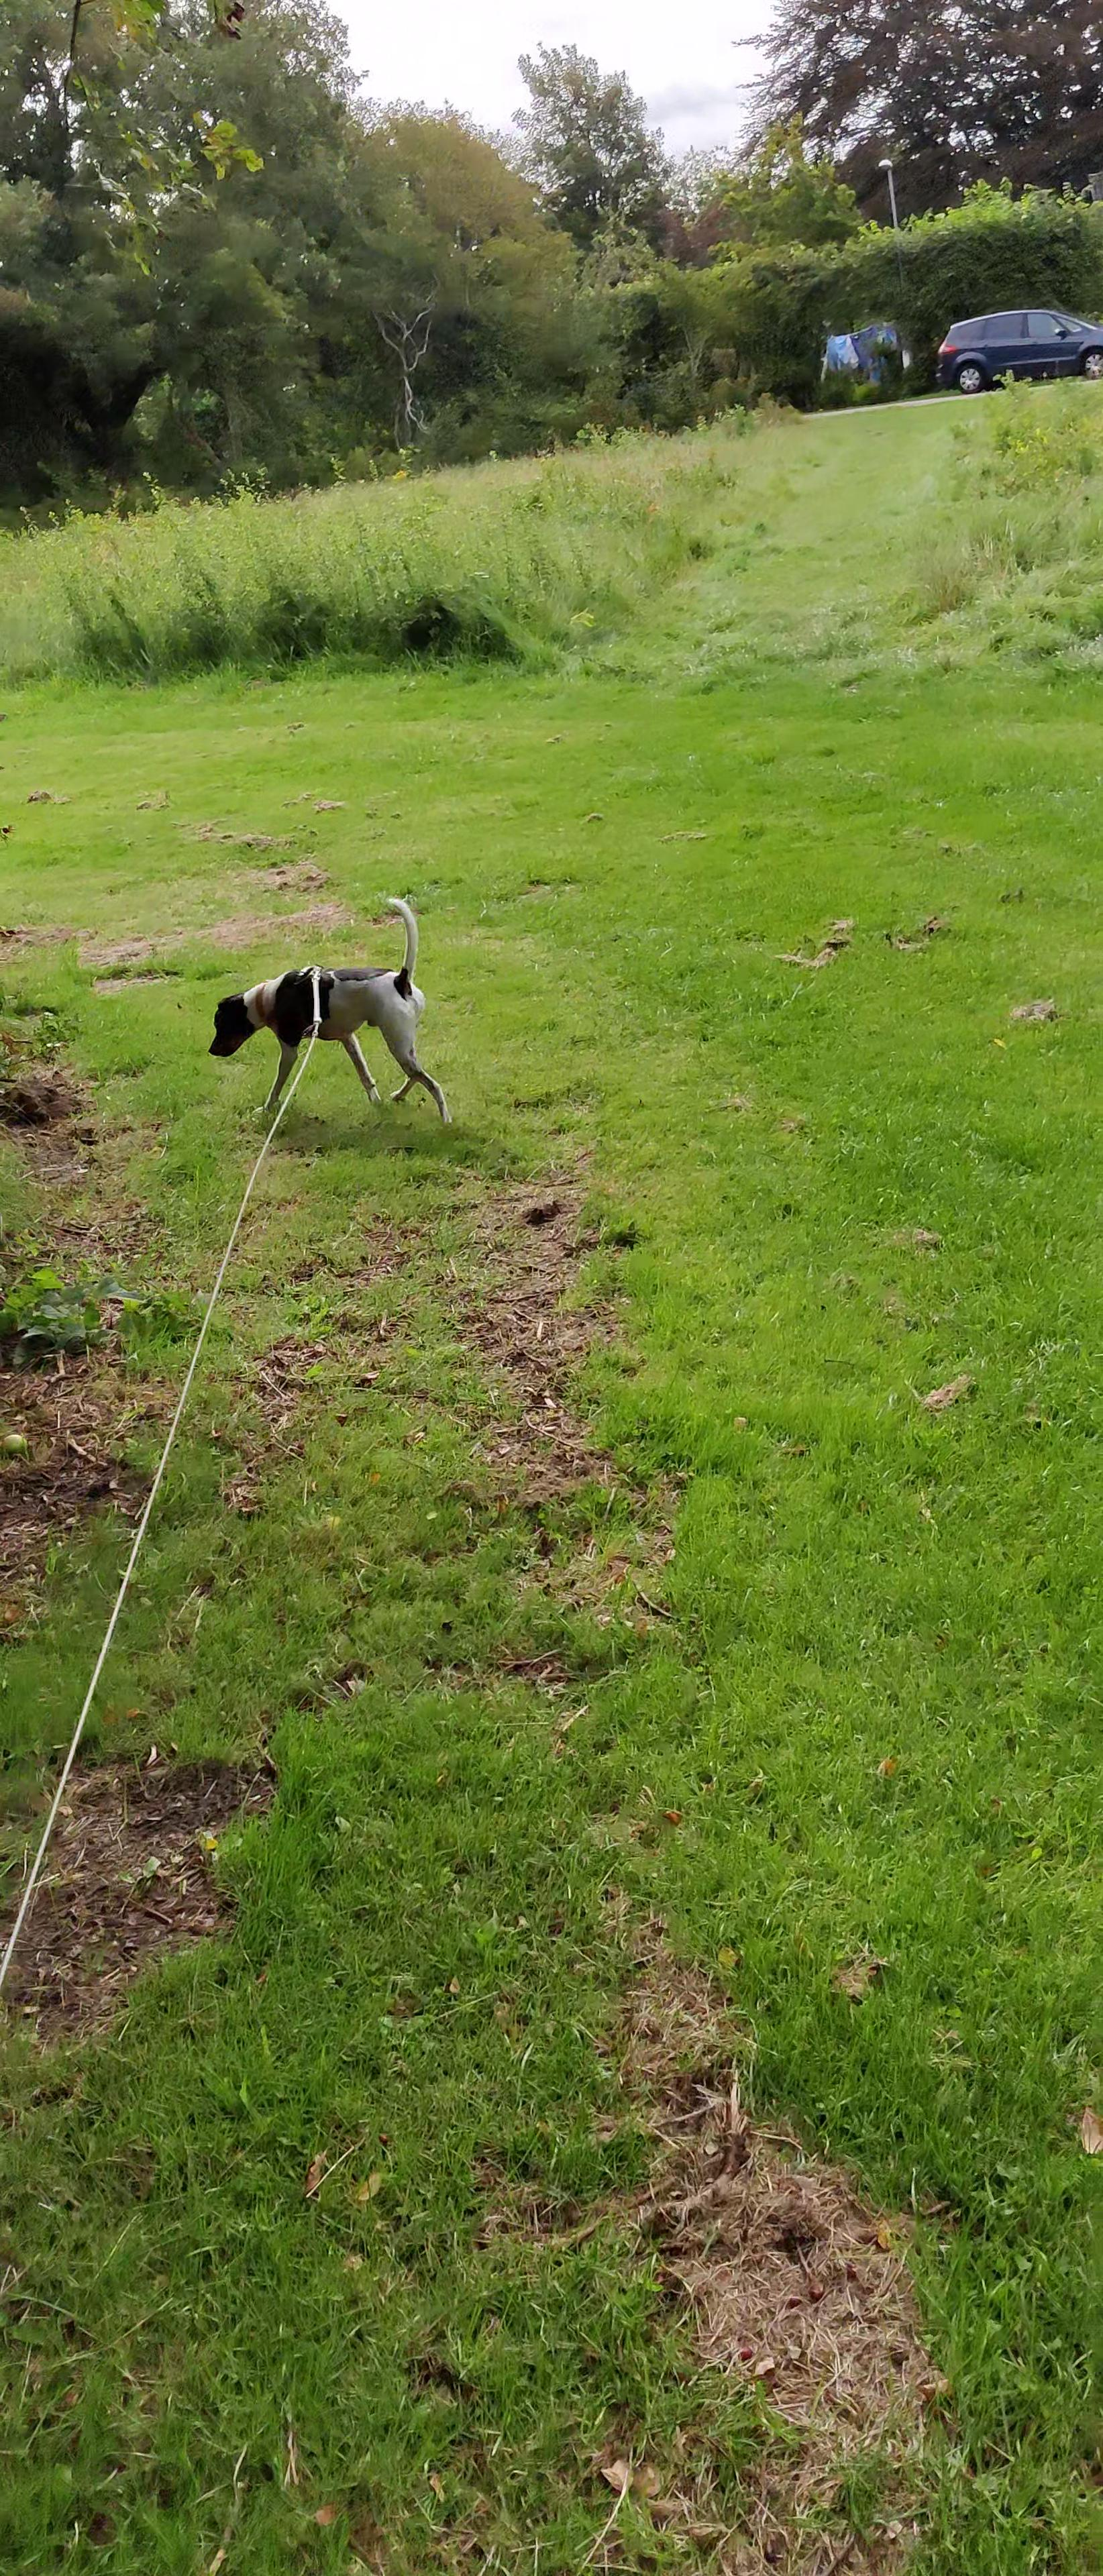Dog: (201, 894, 459, 1125)
